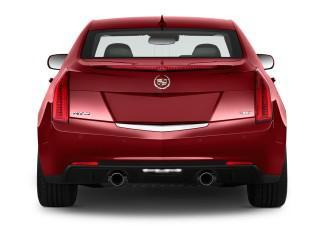cadillac: (149, 72, 175, 92)
